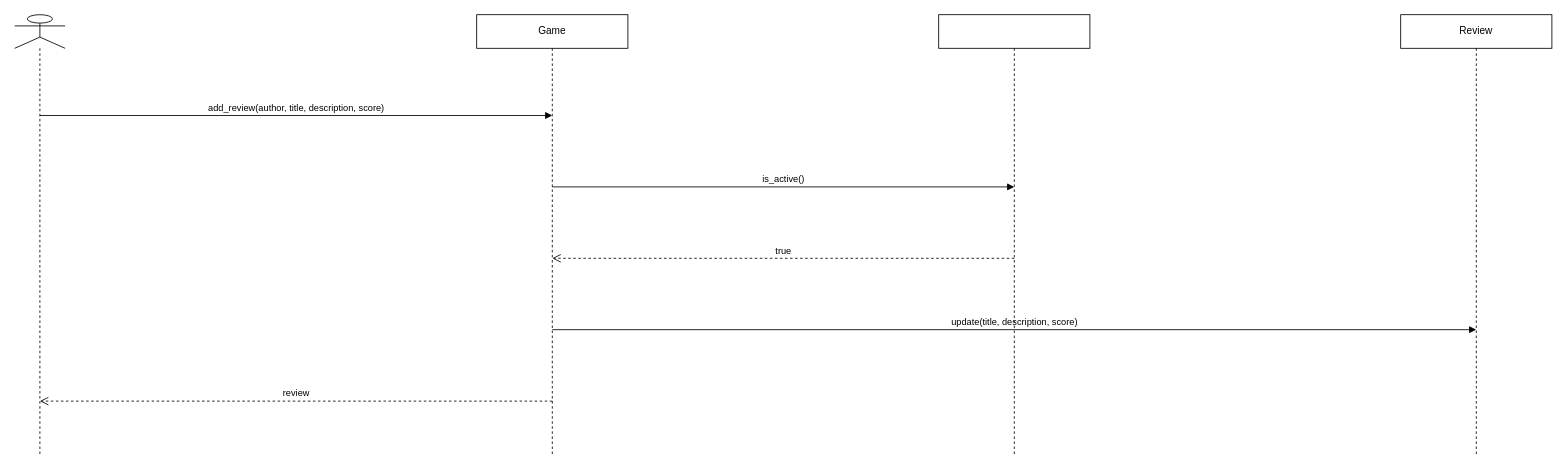
Some shapes in this 1567 by 470 pixel diagram are drawn without their labels. Each missing label, with the box of its shape:
Spiller: (14, 14, 65, 455)
User: (938, 14, 1090, 455)
